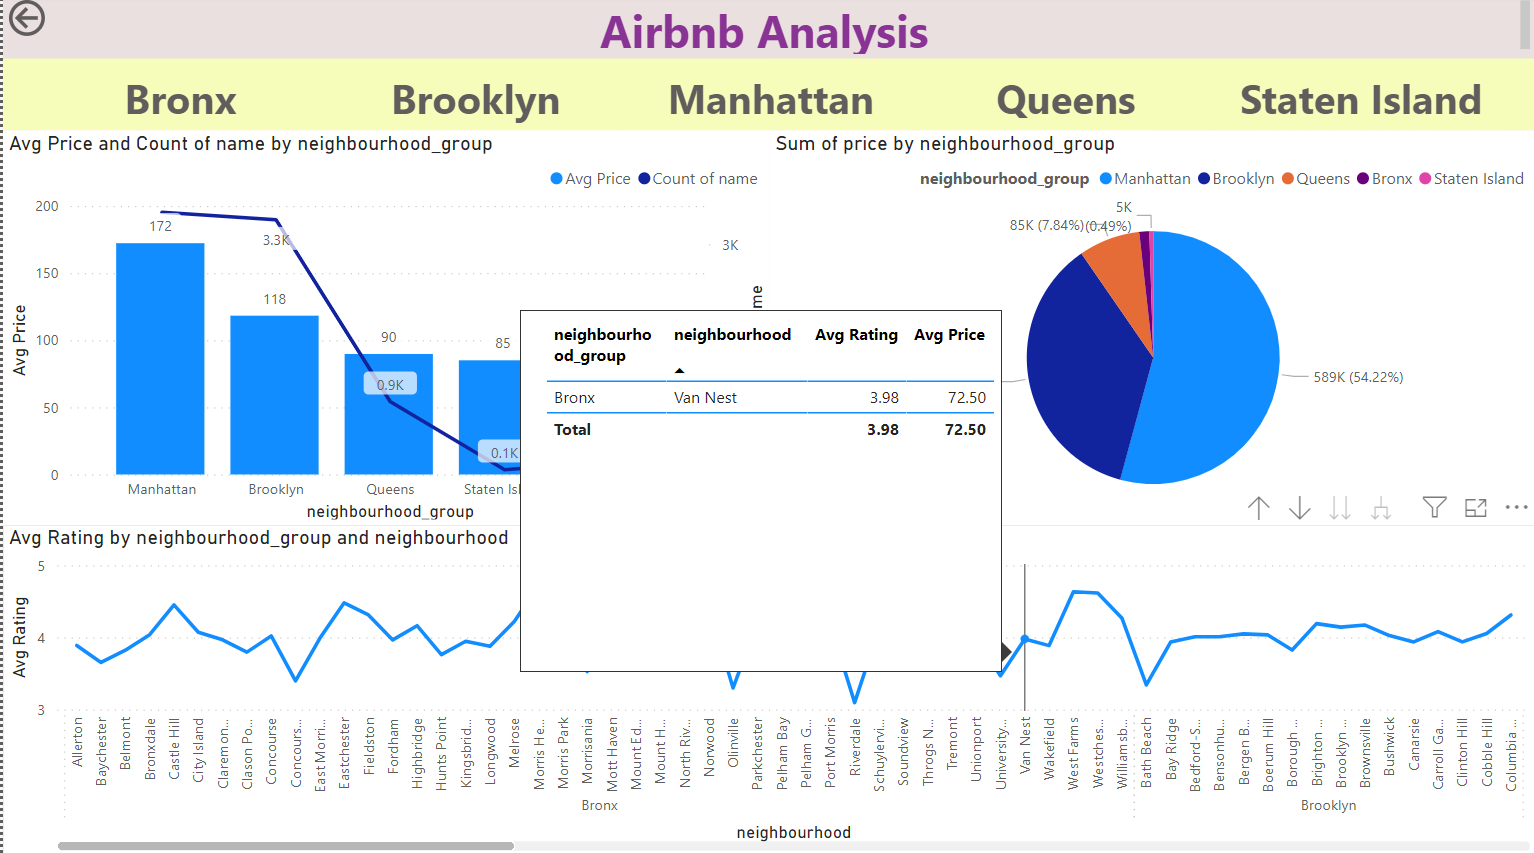

The dashboard page shown, as its layout file describes it:
{"tool":"powerbi","page":{"name":"ReportNG","canvas":[1280,720],"ordinal":0},"visuals":[{"type":"textbox","box":[0,0,1279.5,54.9],"z":0},{"type":"slicer","fields":{"Values":["airbnb.neighbourhood_group"]},"box":[0,54.5,1280,59],"z":1000},{"type":"lineStackedColumnComboChart","fields":{"Category":["airbnb.neighbourhood_group"],"Y":["airbnb.Avg Price"],"Y2":["CountNonNull(airbnb.name)"]},"box":[0,113.5,640,329.8],"z":2000},{"type":"pieChart","fields":{"Category":["airbnb.neighbourhood_group"],"Y":["Sum(airbnb.price)"]},"box":[640,113.5,640,329.8],"z":3000},{"type":"lineChart","fields":{"Category":["airbnb.neighbourhood_group","airbnb.neighbourhood"],"Y":["airbnb.Avg Rating"]},"box":[0,443.3,1279.7,276.7],"z":4000},{"type":"actionButton","box":[0,0,100,40],"z":5000}]}

Visuals, with their boxes in screenshot pixels (x1, y1, x2, y2), scaled from the page's 1280x720 canvas onto the 1534x853 screenshot:
textbox: crop(0, 0, 1533, 65)
slicer - airbnb.neighbourhood_group: crop(0, 65, 1533, 134)
lineStackedColumnComboChart - airbnb.neighbourhood_group x airbnb.Avg Price: crop(0, 134, 767, 525)
pieChart - airbnb.neighbourhood_group x Sum(airbnb.price): crop(767, 134, 1533, 525)
lineChart - airbnb.neighbourhood_group x airbnb.neighbourhood: crop(0, 525, 1533, 852)
actionButton: crop(0, 0, 120, 47)
